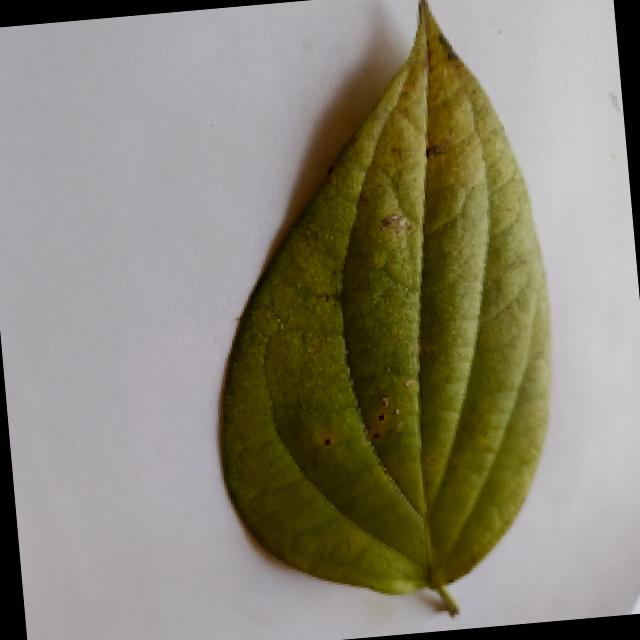slow-decline: (179, 0, 568, 629)
